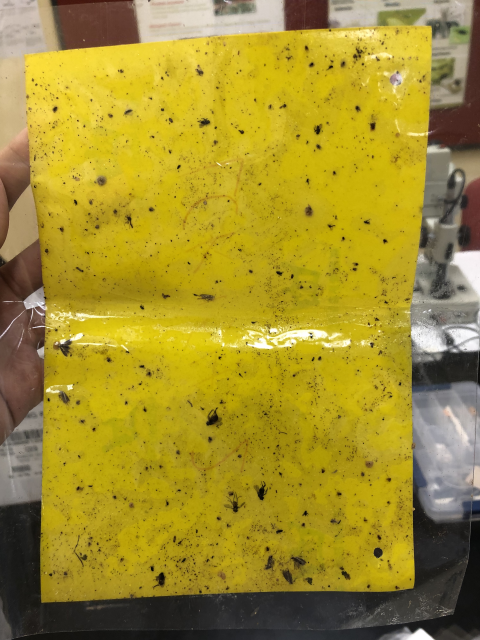DBM: (280, 566, 297, 588), (57, 338, 74, 358), (288, 555, 308, 572), (57, 388, 71, 407)
